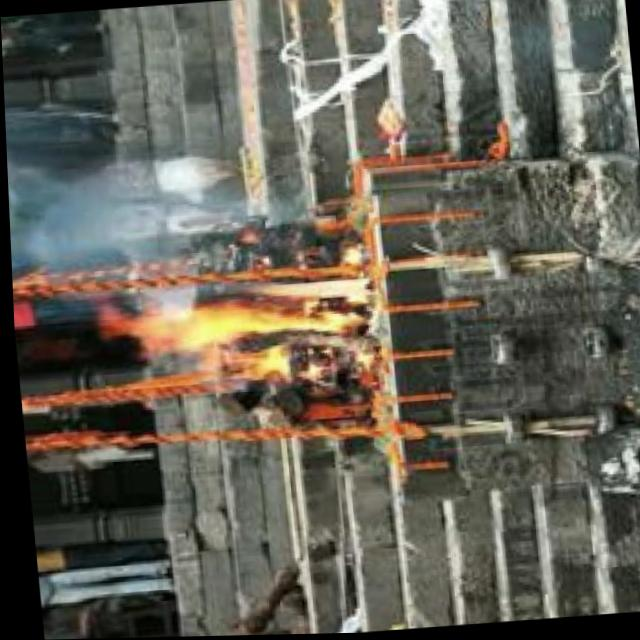Fire: (124, 271, 379, 395)
